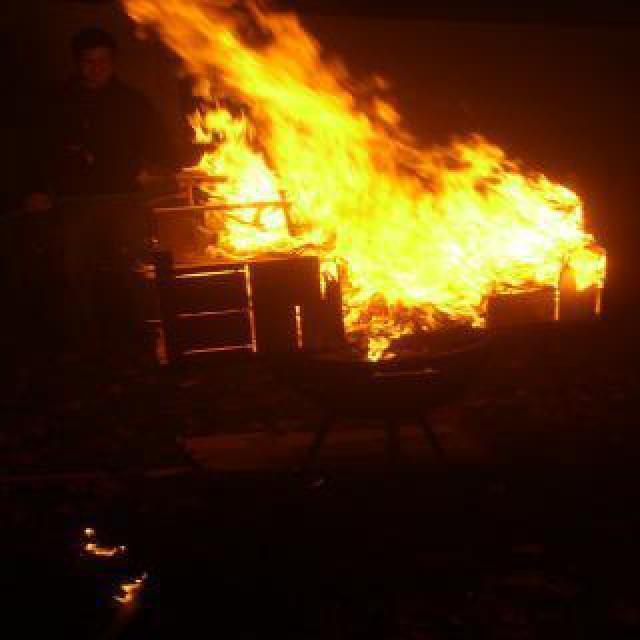Fire: (130, 4, 596, 354)
